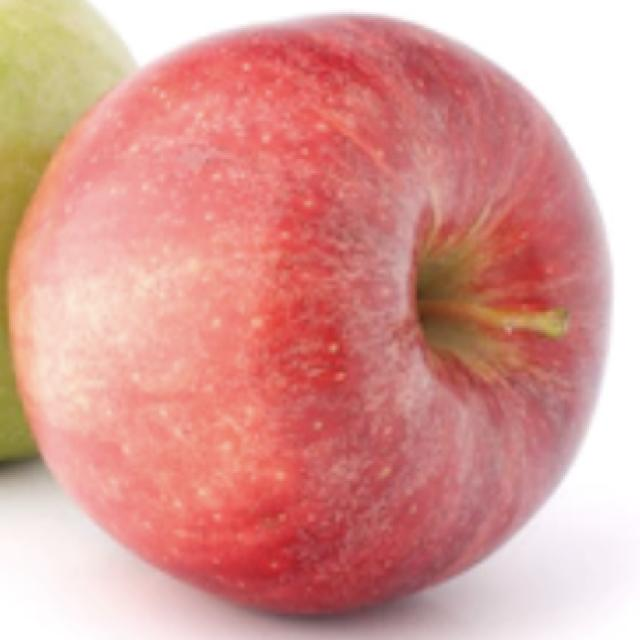apple: (11, 16, 608, 614), (0, 0, 133, 461)
